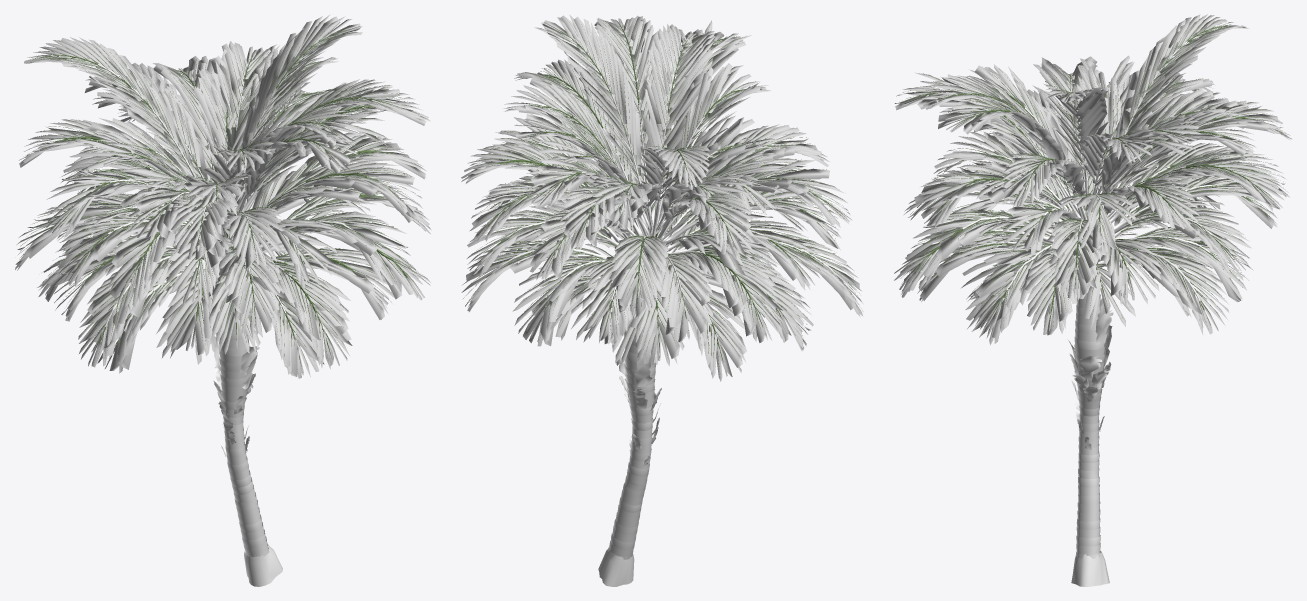
Rendered from palmgameready.fbx.
3 views of the same model, side by side, from view 1: azimuth 30°, elevation 25°; view 2: azimuth 150°, elevation 25°; view 3: azimuth 270°, elevation 25° (orthographic). The views are drawn at different scales.
Parts seen in each view (by area): view 1: Fronds.003, Branches.003, Cylinder.001, Fronds.002, Branches.004; view 2: Fronds.003, Branches.003, Cylinder.001, Fronds.002, Branches.004; view 3: Fronds.003, Branches.003, Cylinder.001, Fronds.002, Branches.004.
Part boxes in pixels (<box>): Fronds.003: <box>15,14,431,378</box>; Branches.003: <box>19,19,423,369</box>; Cylinder.001: <box>218,301,269,556</box>; Fronds.002: <box>210,333,259,456</box>; Branches.004: <box>244,545,282,586</box>; Fronds.003: <box>461,14,863,381</box>; Branches.003: <box>467,18,860,366</box>; Cylinder.001: <box>607,332,656,559</box>; Fronds.002: <box>616,296,661,465</box>; Branches.004: <box>598,549,634,586</box>; Fronds.003: <box>894,14,1291,345</box>; Branches.003: <box>902,17,1283,329</box>; Cylinder.001: <box>1074,286,1105,558</box>; Fronds.002: <box>1068,292,1113,449</box>; Branches.004: <box>1071,551,1109,586</box>.
Bounding box in the file's own units: 501 × 686 × 467.
